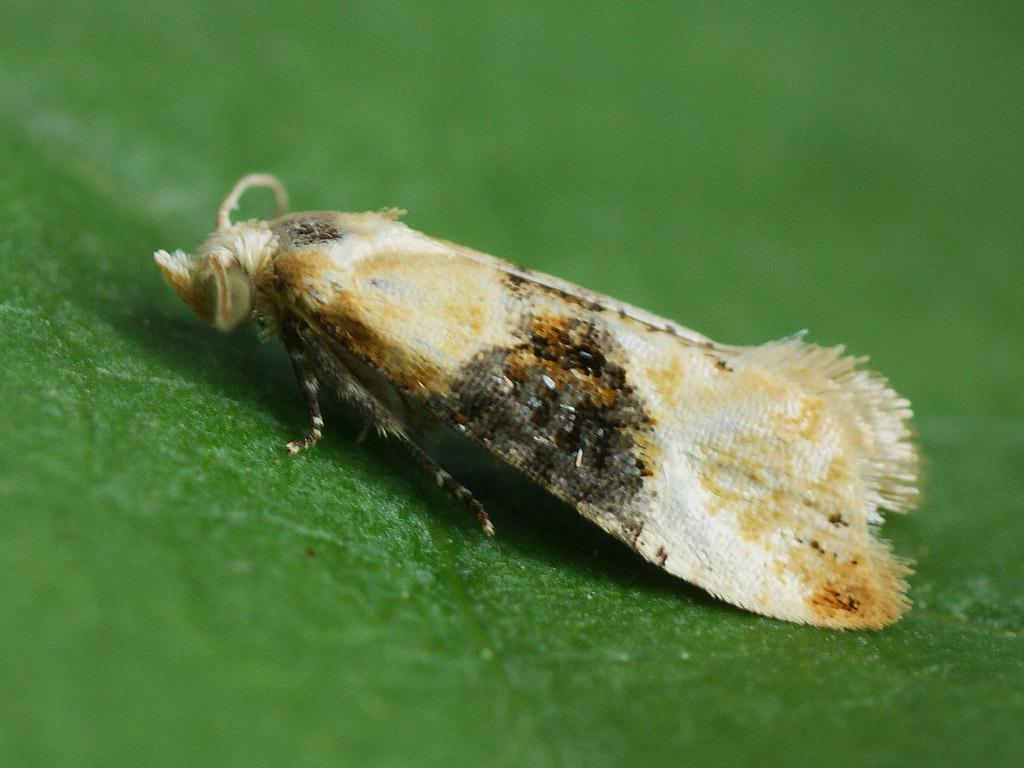Eupoecilia Ambiguella: (153, 172, 924, 629)
